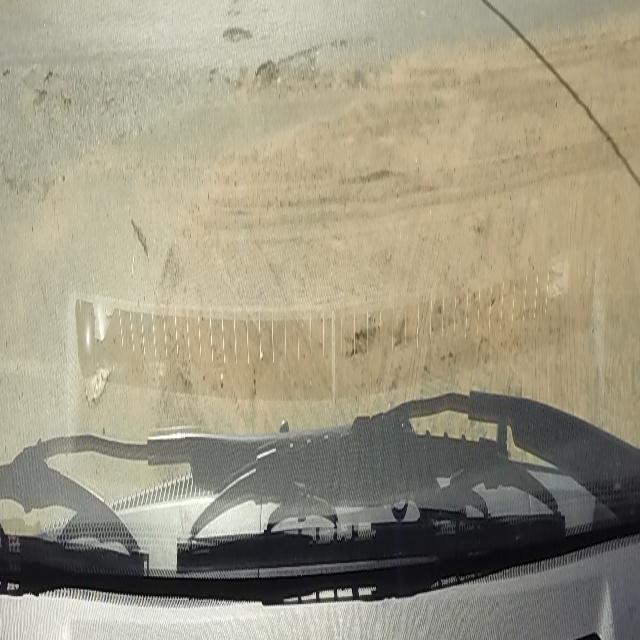pothole: (253, 53, 280, 85), (221, 18, 253, 42)
